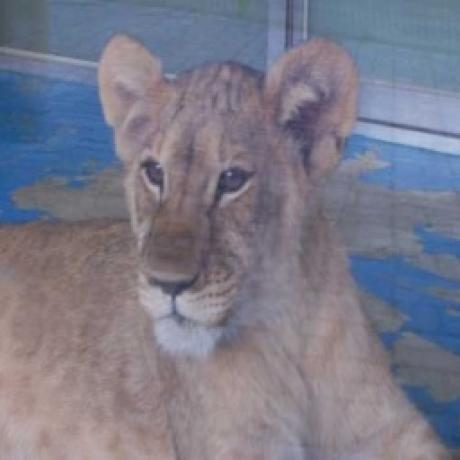Lion: (0, 27, 449, 460)
